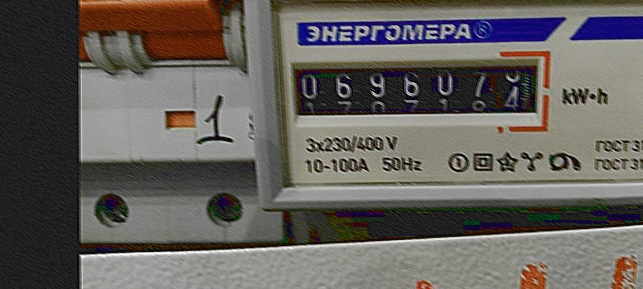0: (436, 67, 454, 97), (301, 71, 318, 99)
4: (503, 81, 520, 110)
6: (403, 68, 420, 97), (335, 70, 352, 98)
7: (470, 67, 489, 99)
9: (368, 70, 386, 98)
screen: (279, 46, 556, 131)
